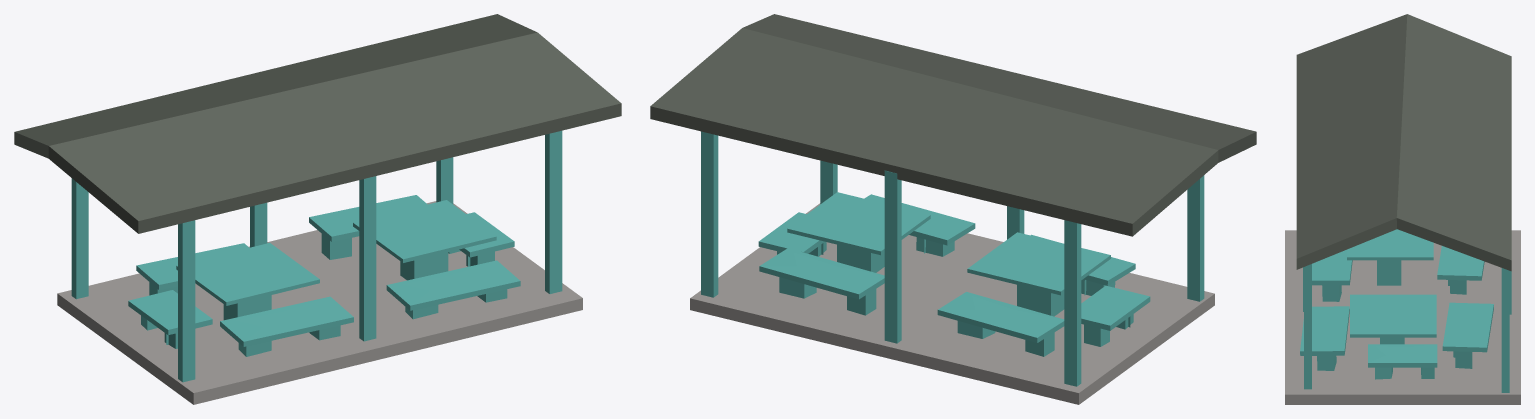
File: LHS_Shed_FIN.glb
The picture shows the model from 3 angles, left to right: view 1: azimuth 30°, elevation 25°; view 2: azimuth 150°, elevation 25°; view 3: azimuth 270°, elevation 25°; orthographic projection. The views are drawn at different scales.
Visible parts, largest first — view 1: Cube.007, Cube, Cube.015, Cube.009, Cube.013, Cube.016, Cube.003, Cube.002, Cube.001, Cube.012, Cube.006, Cube.011 (+6 smaller); view 2: Cube.007, Cube, Cube.009, Cube.015, Cube.012, Cube.017, Cube.004, Cube.006, Cube.005, Cube.011, Cube.001, Cube.016 (+5 smaller); view 3: Cube.007, Cube, Cube.009, Cube.012, Cube.016, Cube.010, Cube.015, Cube.017, Cube.013, Cube.005, Cube.002, Cube.014.
Boxes of the visible parts, x1,y1,x2,y2 form: Cube.007: [14, 14, 621, 233]; Cube: [57, 201, 582, 404]; Cube.015: [176, 243, 319, 305]; Cube.009: [353, 200, 496, 262]; Cube.013: [220, 296, 353, 356]; Cube.016: [386, 260, 520, 319]; Cube.003: [359, 176, 376, 341]; Cube.002: [545, 130, 562, 293]; Cube.001: [178, 220, 195, 382]; Cube.012: [309, 195, 427, 259]; Cube.006: [71, 178, 88, 299]; Cube.011: [128, 290, 212, 348]; Cube.007: [650, 14, 1256, 236]; Cube: [690, 203, 1214, 404]; Cube.009: [787, 192, 930, 255]; Cube.015: [967, 232, 1110, 295]; Cube.012: [759, 248, 884, 315]; Cube.017: [937, 292, 1064, 356]; Cube.004: [884, 170, 901, 343]; Cube.006: [1064, 220, 1081, 386]; Cube.005: [701, 131, 718, 297]; Cube.011: [1081, 285, 1150, 346]; Cube.001: [1187, 175, 1204, 301]; Cube.016: [864, 194, 975, 256]; Cube.007: [1296, 14, 1511, 271]; Cube: [1285, 230, 1520, 404]; Cube.009: [1350, 294, 1436, 337]; Cube.012: [1442, 302, 1493, 368]; Cube.016: [1300, 306, 1349, 370]; Cube.010: [1368, 344, 1437, 379]; Cube.015: [1347, 229, 1433, 260]; Cube.017: [1437, 246, 1484, 294]; Cube.013: [1312, 249, 1352, 301]; Cube.005: [1501, 268, 1509, 392]; Cube.002: [1304, 264, 1311, 389]; Cube.014: [1377, 260, 1401, 285].
Bounding box in the file's own units: 10.77 × 4.56 × 4.99.
